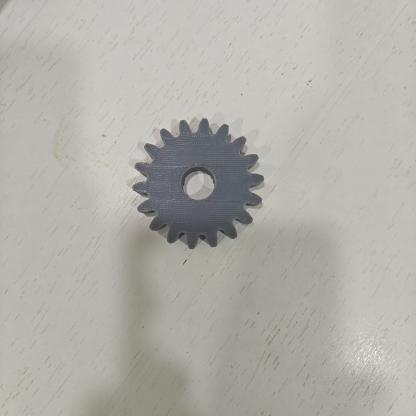gear: (127, 118, 281, 256)
